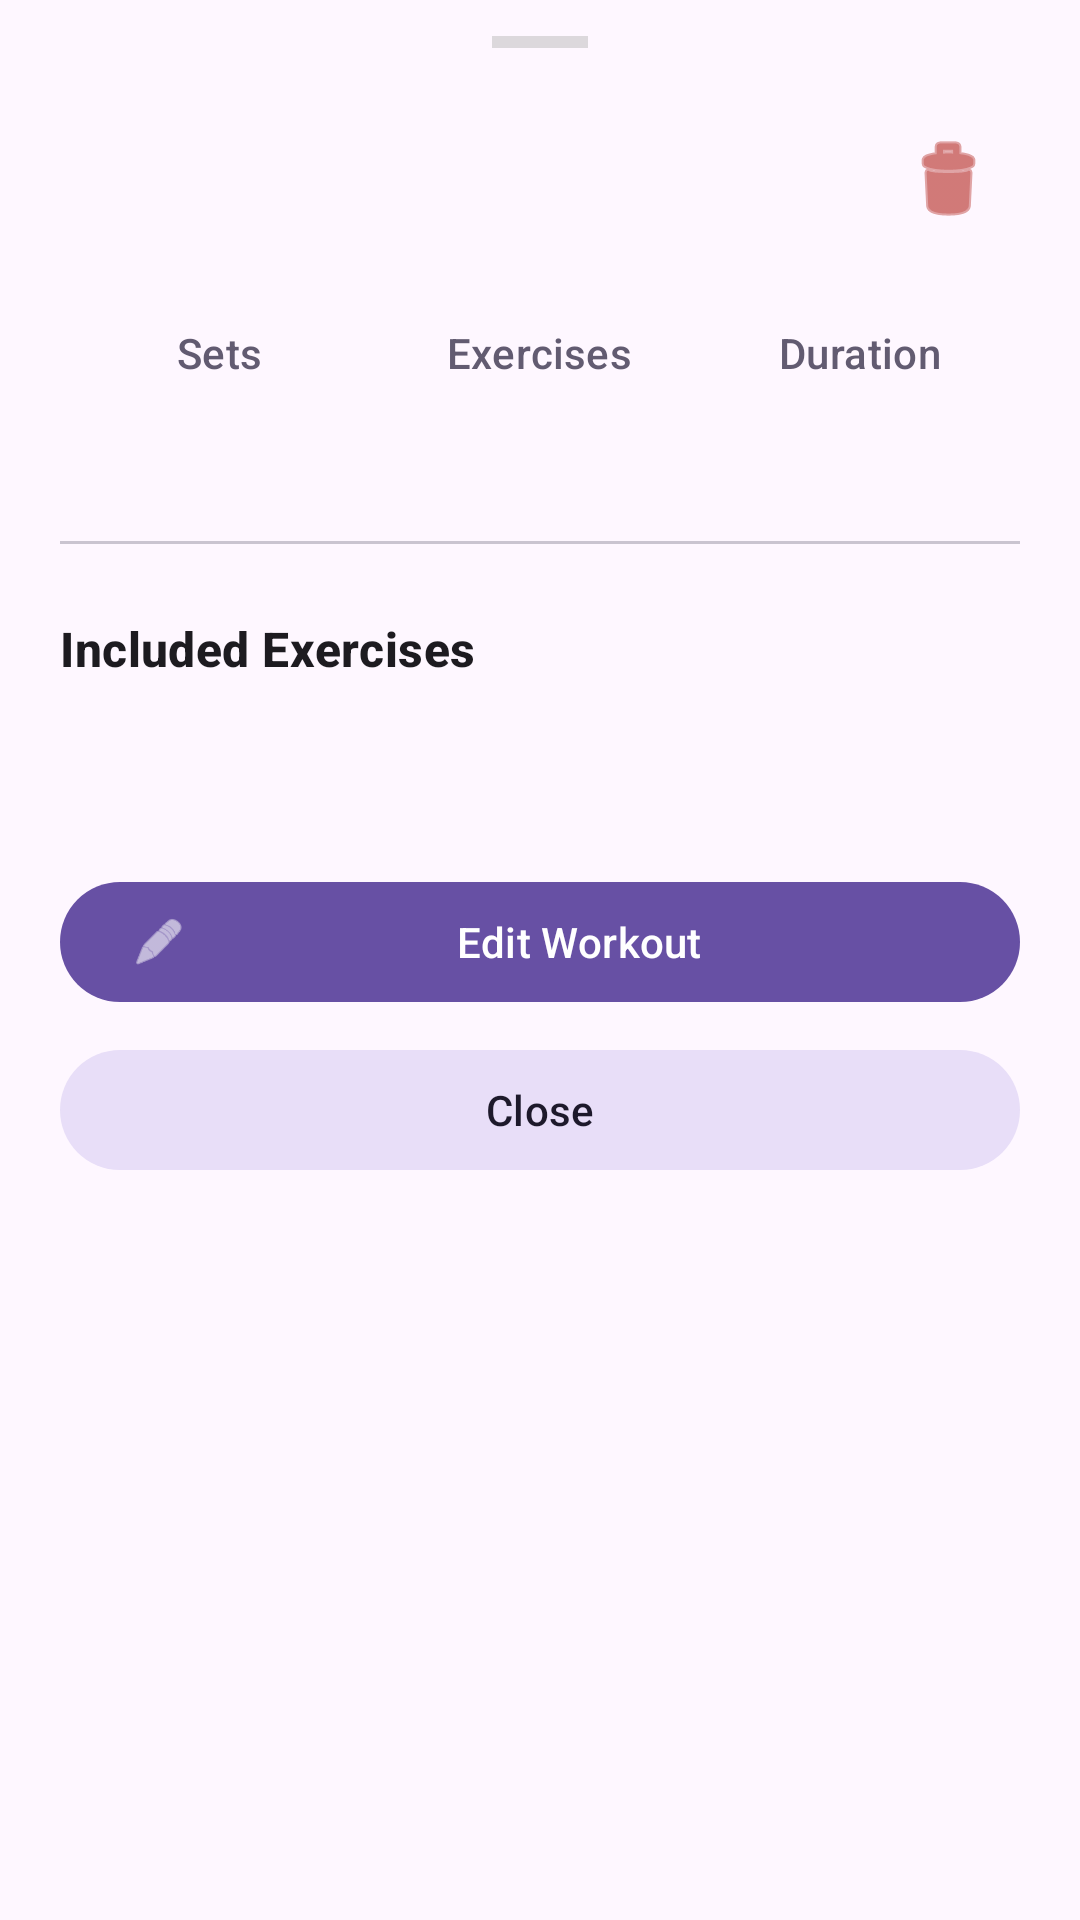

Icon click points for this 1080*1920 phone screenshot, format (x,y):
Delete Workout: (948,178)
